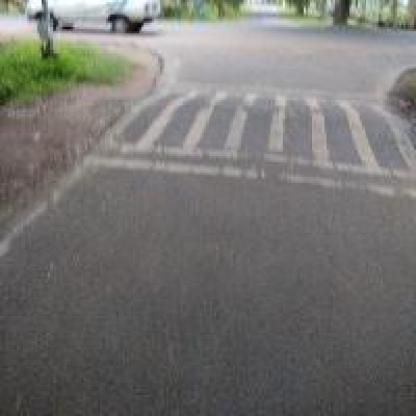Speed Bump: (81, 73, 414, 212)
